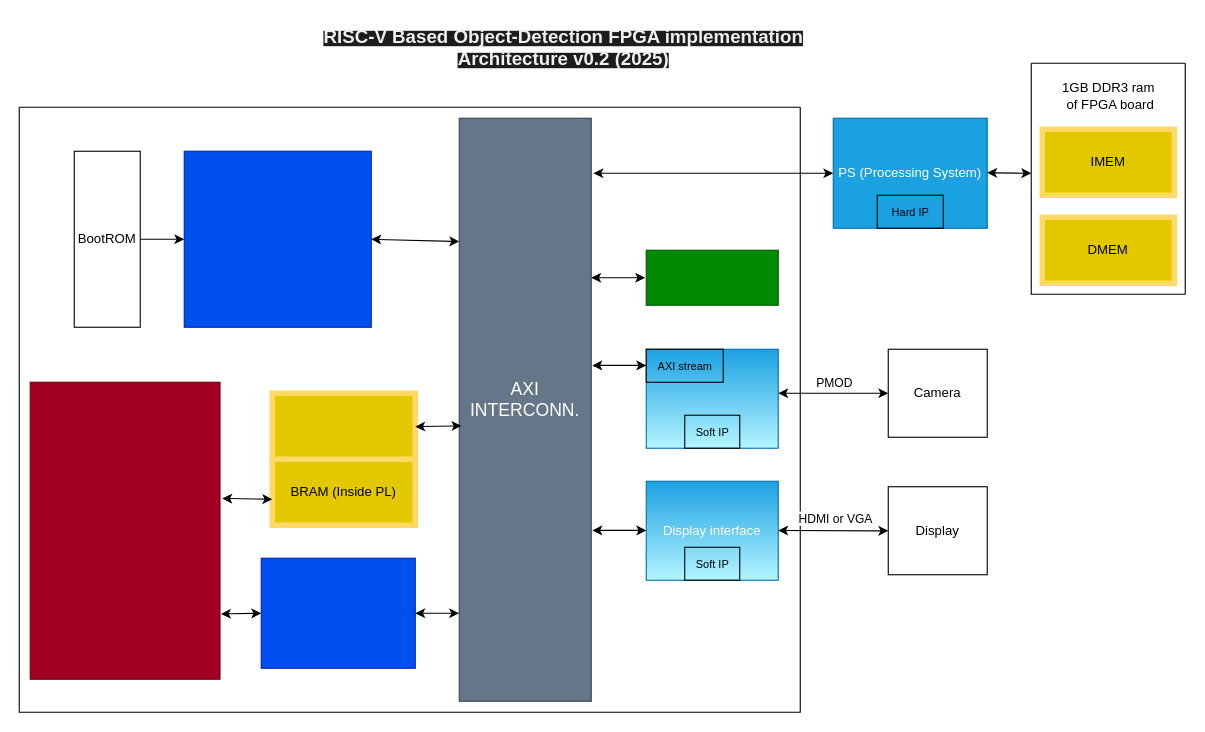
This 1205x732 diagram has some shape labels left out. Here are the shapes that lost their labels. From the top down, the box of each, then its label:
(183, 150, 371, 327): RISCV32I
(645, 249, 778, 305): TIMER
(645, 348, 778, 448): Camera interface
(269, 390, 417, 461): OCM (Inside PL) Frame buffer for fast preprocessig
(29, 381, 220, 679): CNN/ACF accelerator
(260, 557, 415, 668): DMA
